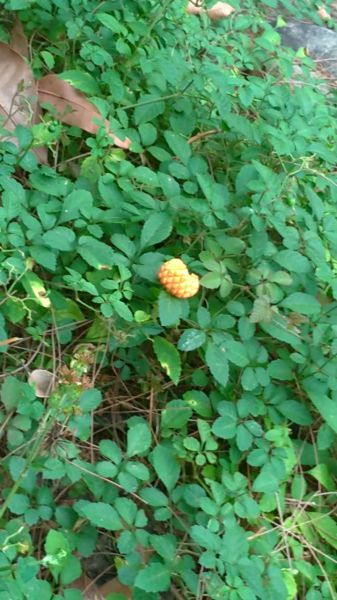eggs: (155, 255, 202, 299)
